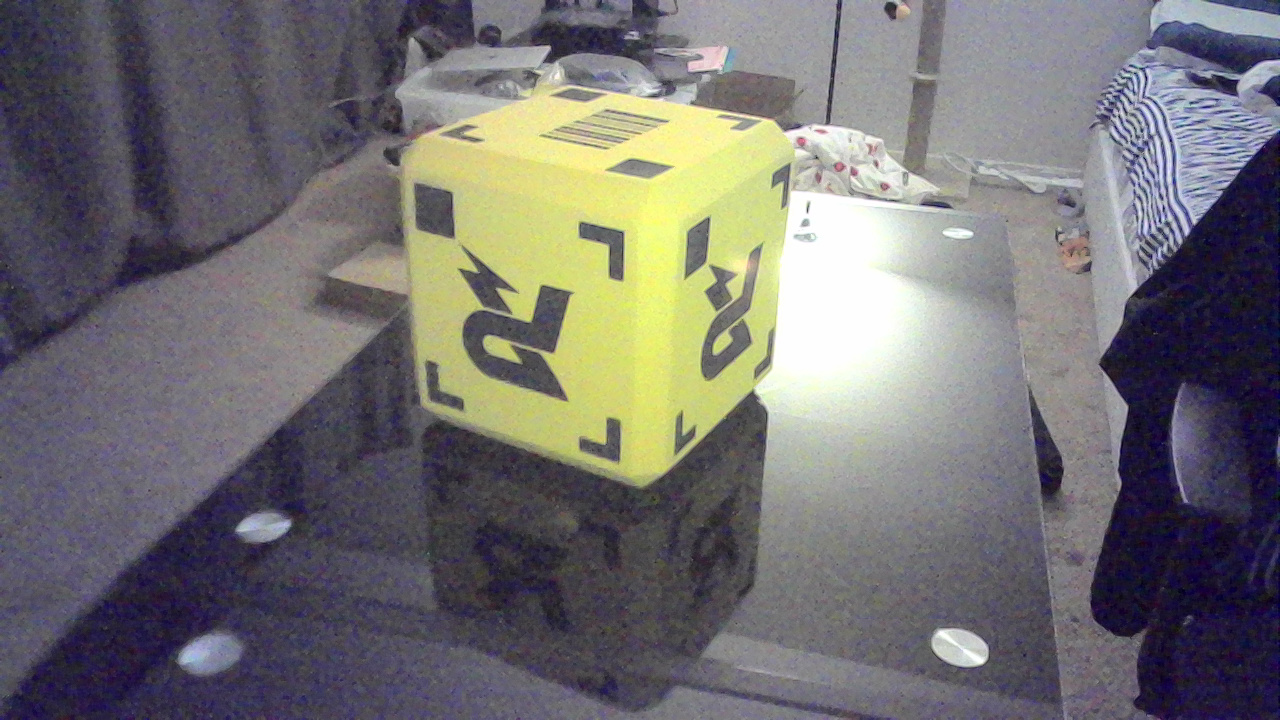Barcode: (555, 107, 676, 158)
R: (450, 243, 584, 403), (706, 246, 769, 388)
